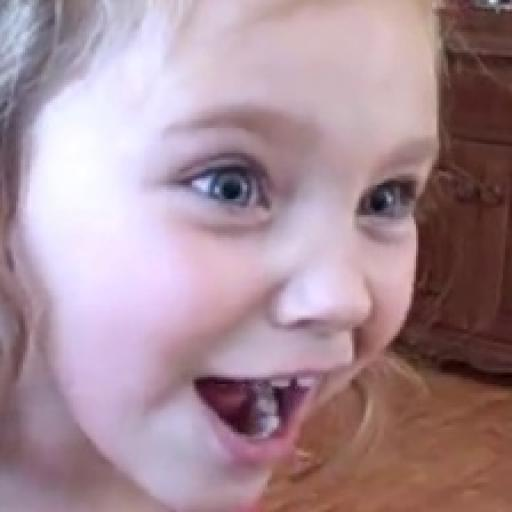Autism: (48, 9, 447, 512)
